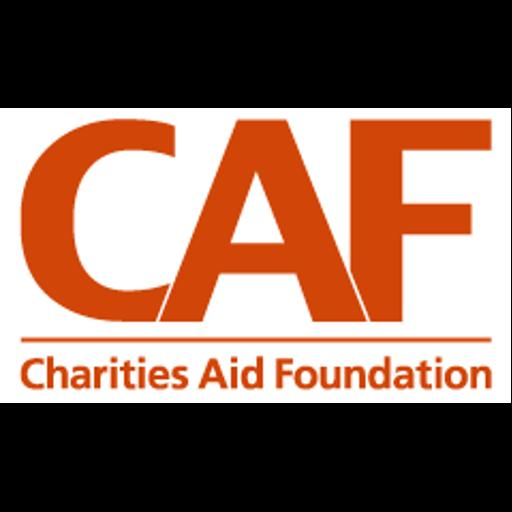Charities Aid Foundation: (0, 108, 511, 403)
